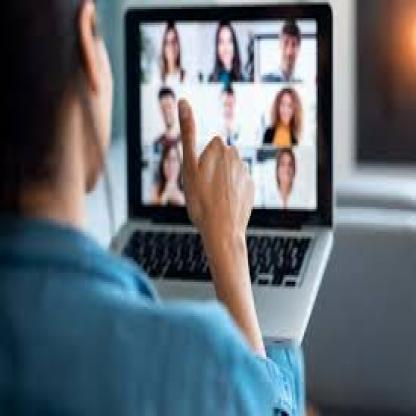thumb_up: (172, 92, 256, 246)
